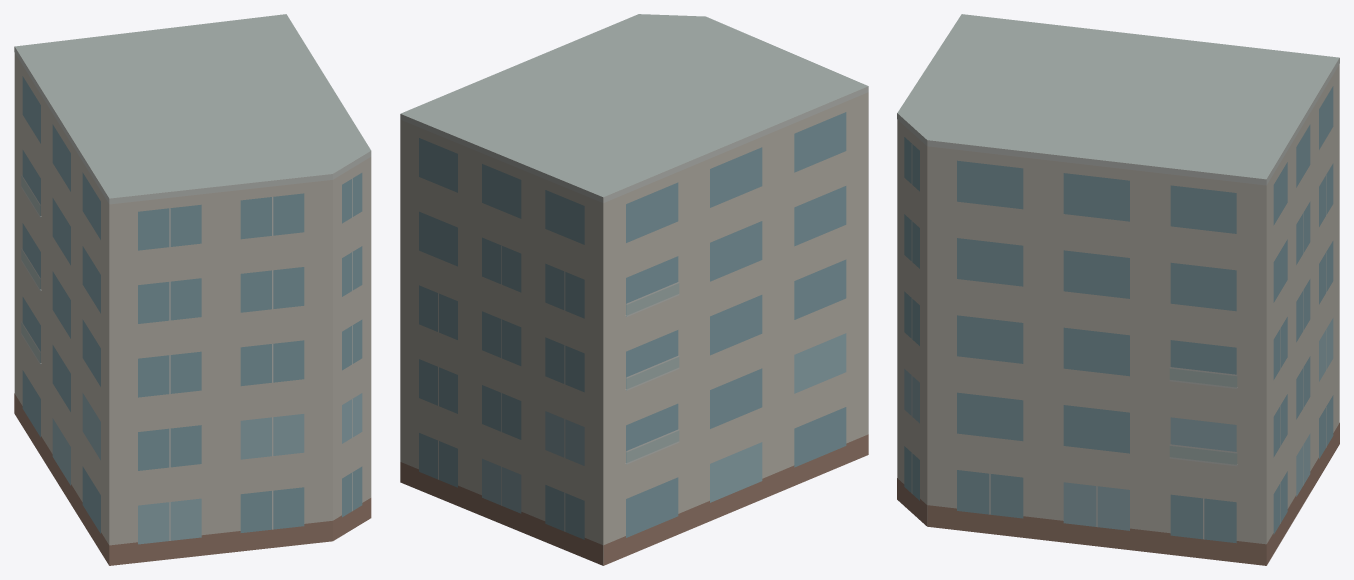
Rendered from survey-upis-32598759.glb.
The picture shows the model from 3 angles, left to right: view 1: azimuth 30°, elevation 25°; view 2: azimuth 150°, elevation 25°; view 3: azimuth 270°, elevation 25°; orthographic projection. The views are drawn at different scales.
Visible parts, largest first — view 1: survey-upis-32598759.tmp; view 2: survey-upis-32598759.tmp; view 3: survey-upis-32598759.tmp.
Boxes of the visible parts, x1,y1,x2,y2 form: survey-upis-32598759.tmp: [14, 14, 371, 565]; survey-upis-32598759.tmp: [400, 14, 868, 565]; survey-upis-32598759.tmp: [897, 14, 1339, 565].
Size of the model in its own units: 14 by 15.25 by 15.83.
